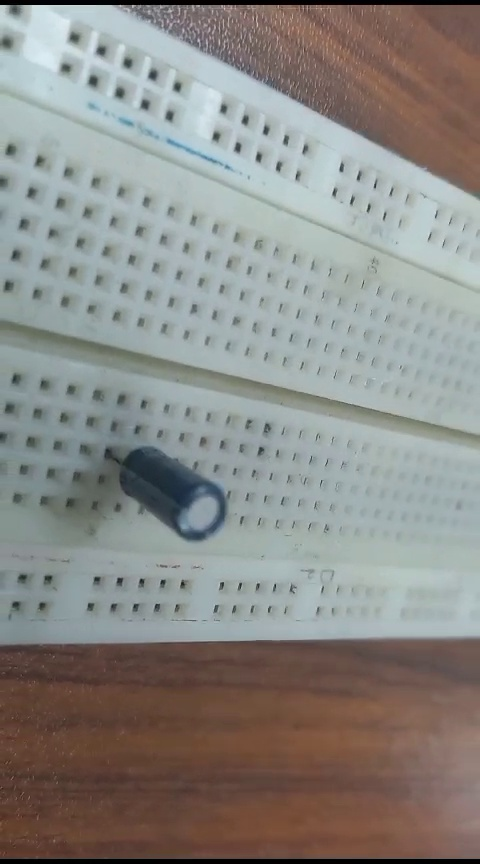capacitor: (96, 436, 231, 547)
